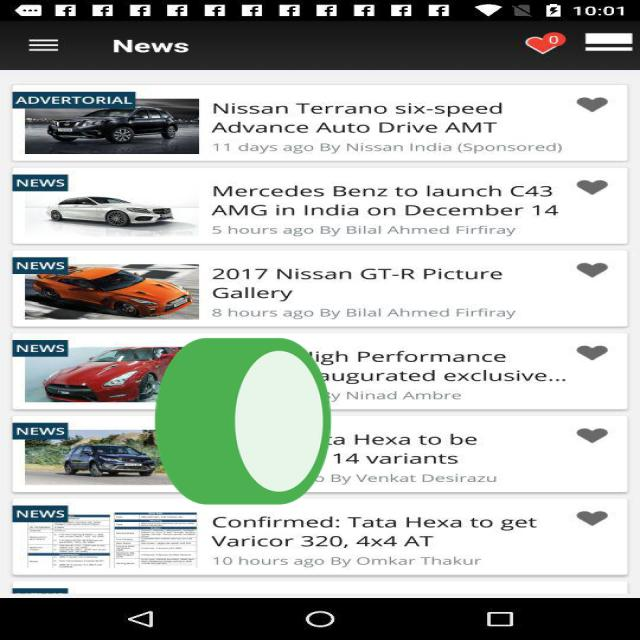social proof: (147, 274, 339, 581)
